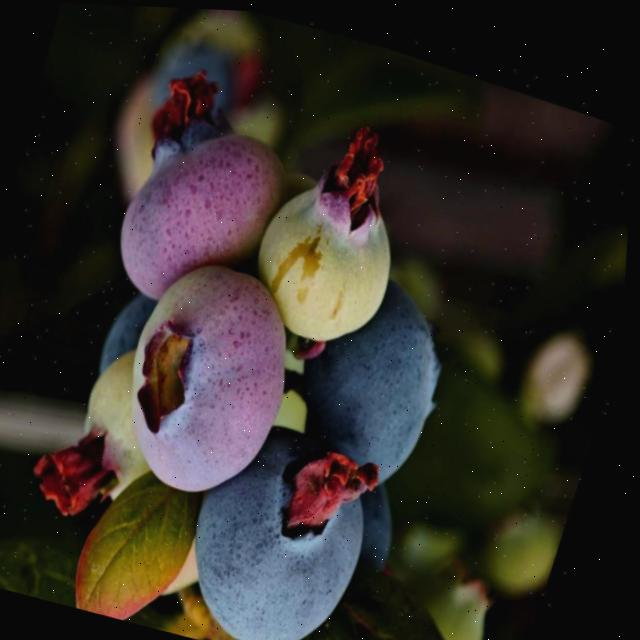RipeBlueBerry: (165, 388, 415, 640)
Semi-RipeBlueBerry: (97, 229, 334, 520), (96, 70, 321, 333)
UnripeBlueBerry: (231, 117, 436, 361)
